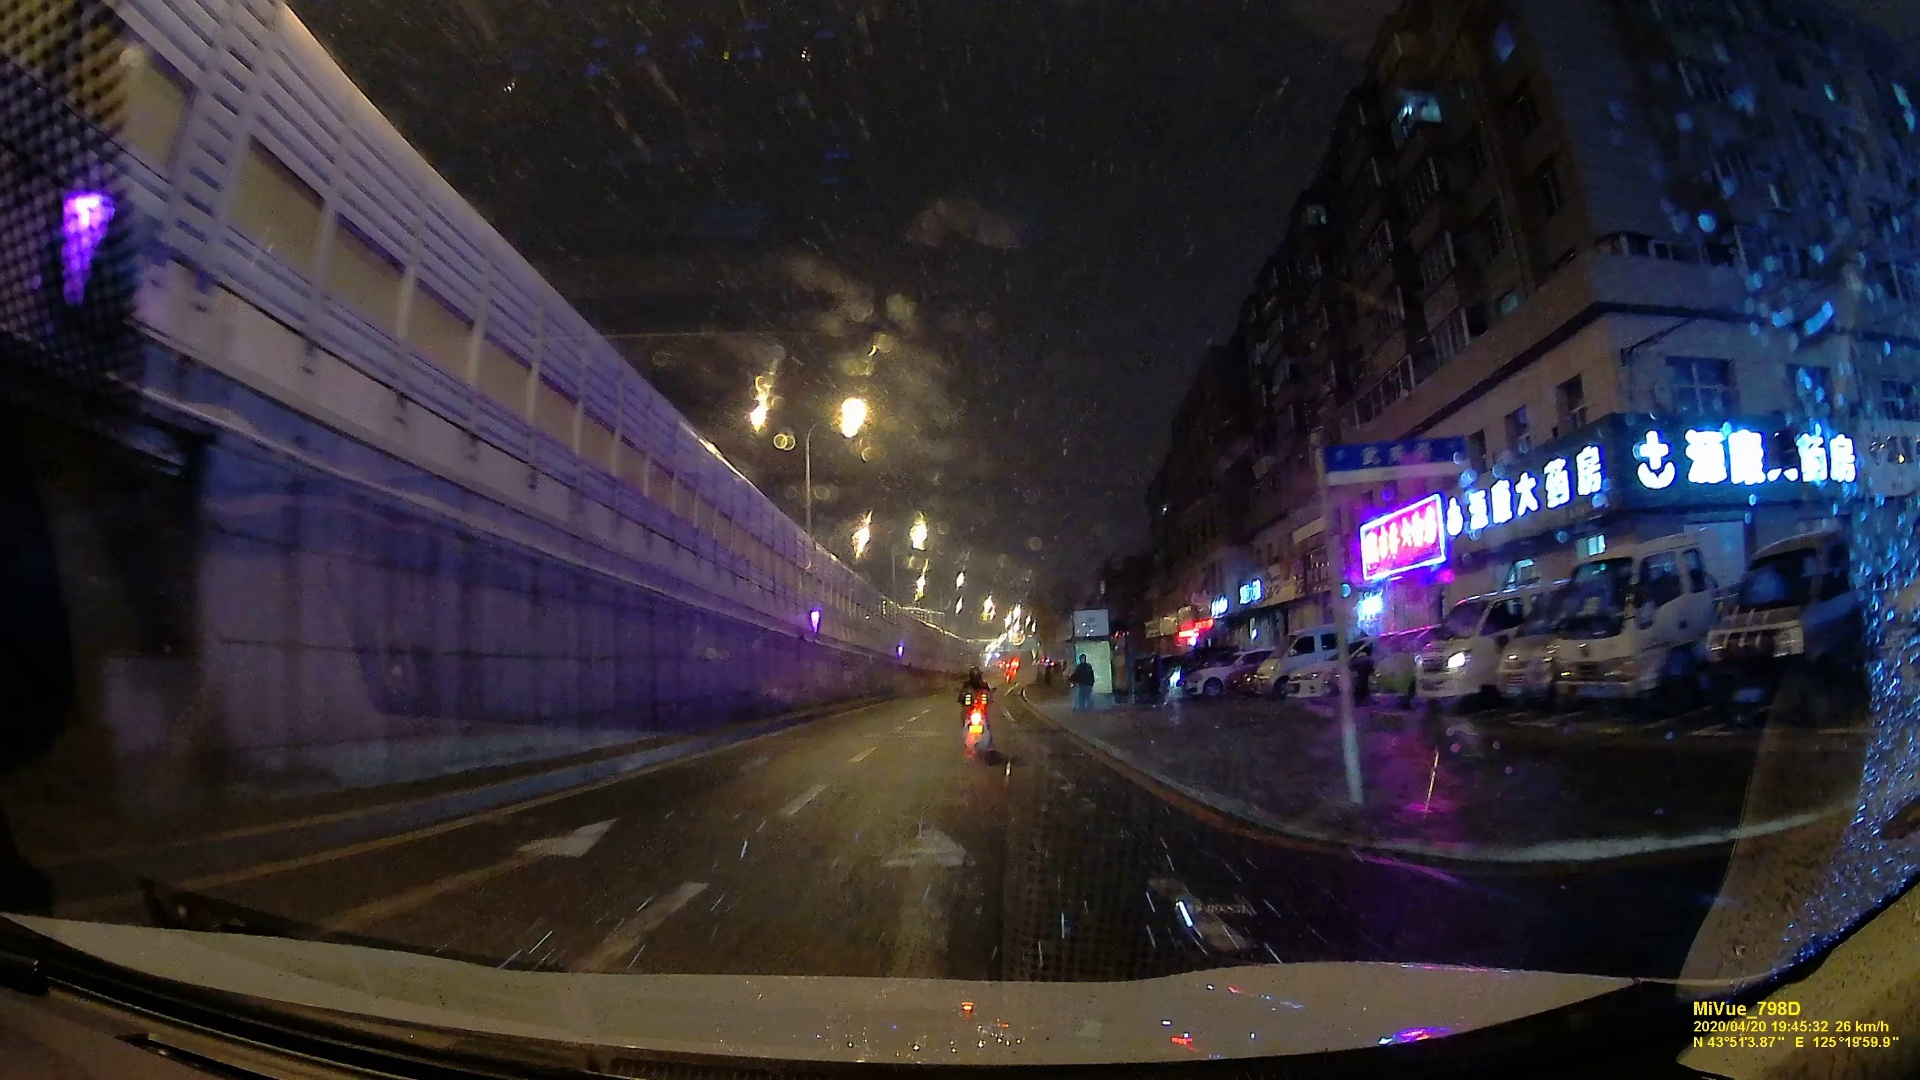minibus: (1415, 591, 1515, 698), (1254, 626, 1336, 697)
person: (957, 664, 989, 712), (1071, 654, 1095, 712)
traffic_sign: (1321, 436, 1467, 474)
truck: (1544, 531, 1701, 705), (1711, 522, 1852, 713)
